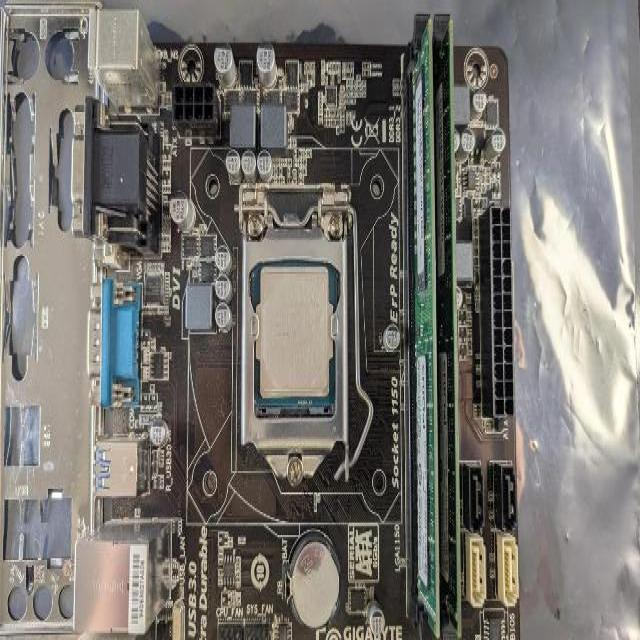CPU: (256, 265, 334, 400)
RAM: (412, 18, 441, 640), (442, 19, 462, 639)
